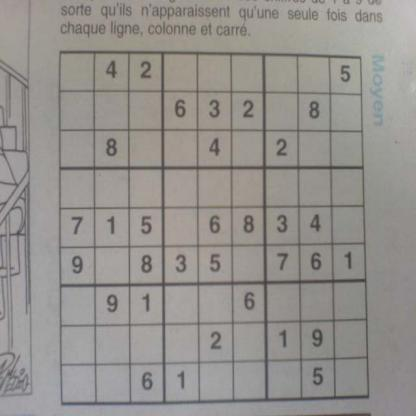sudoku: (55, 45, 373, 411)
